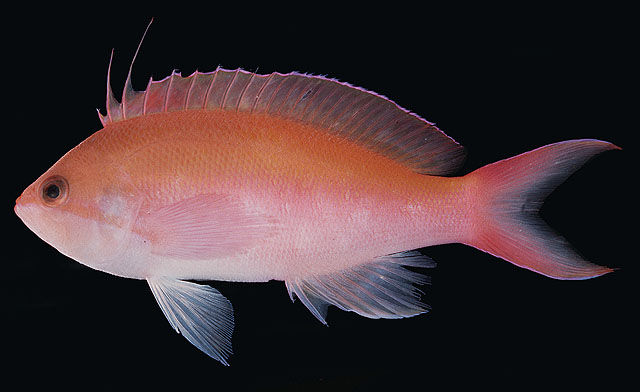fish: (14, 19, 623, 368)
